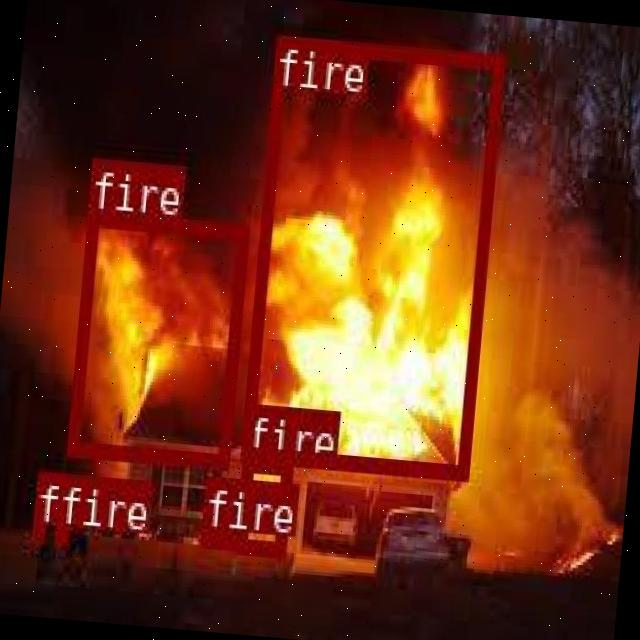fire: (238, 34, 501, 478), (65, 208, 248, 466), (233, 454, 292, 552), (200, 526, 237, 546), (54, 524, 67, 542), (31, 522, 41, 536)
